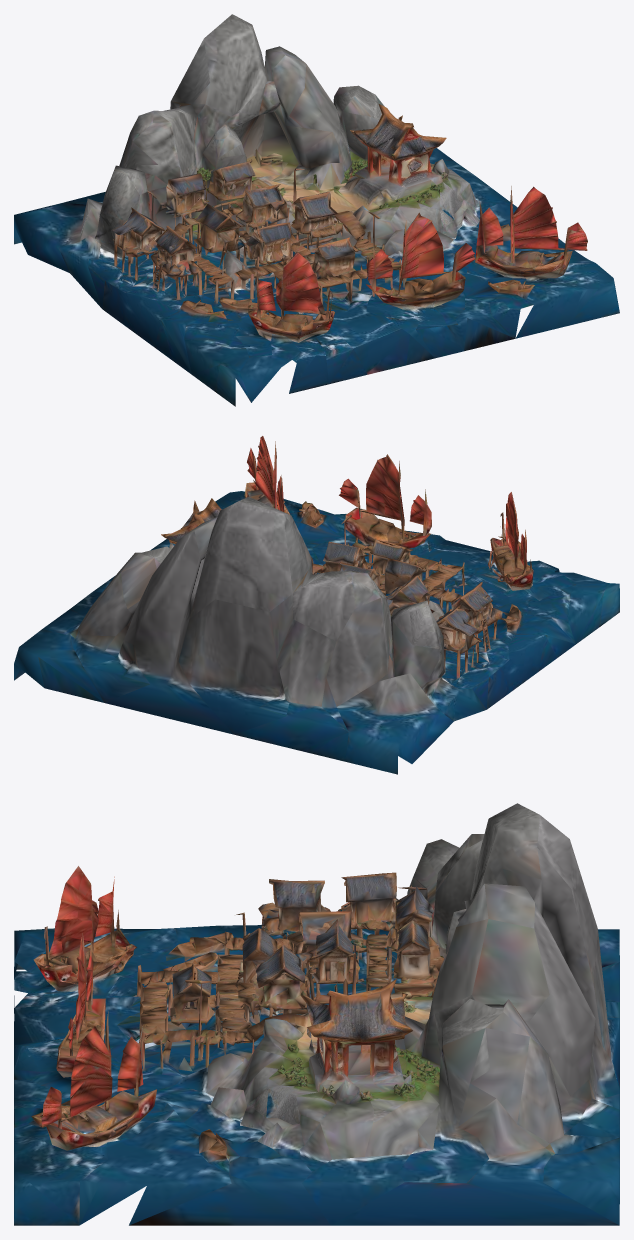
Rendered from m_cheungchau_animated.glb.
3 views of the same model, one above another, from view 1: azimuth 30°, elevation 25°; view 2: azimuth 150°, elevation 25°; view 3: azimuth 270°, elevation 25° (orthographic). The views are drawn at different scales.
Visible parts, largest first — view 1: m_cheungchau_Living_Scenery; view 2: m_cheungchau_Living_Scenery; view 3: m_cheungchau_Living_Scenery.
Part boxes in pixels (x1,y1,x2,y2): m_cheungchau_Living_Scenery: [14, 14, 619, 406]; m_cheungchau_Living_Scenery: [14, 436, 619, 774]; m_cheungchau_Living_Scenery: [14, 803, 619, 1225].
Size of the model in its own units: 0.9773 by 0.5001 by 0.9776.
1 material, 1 textured.
